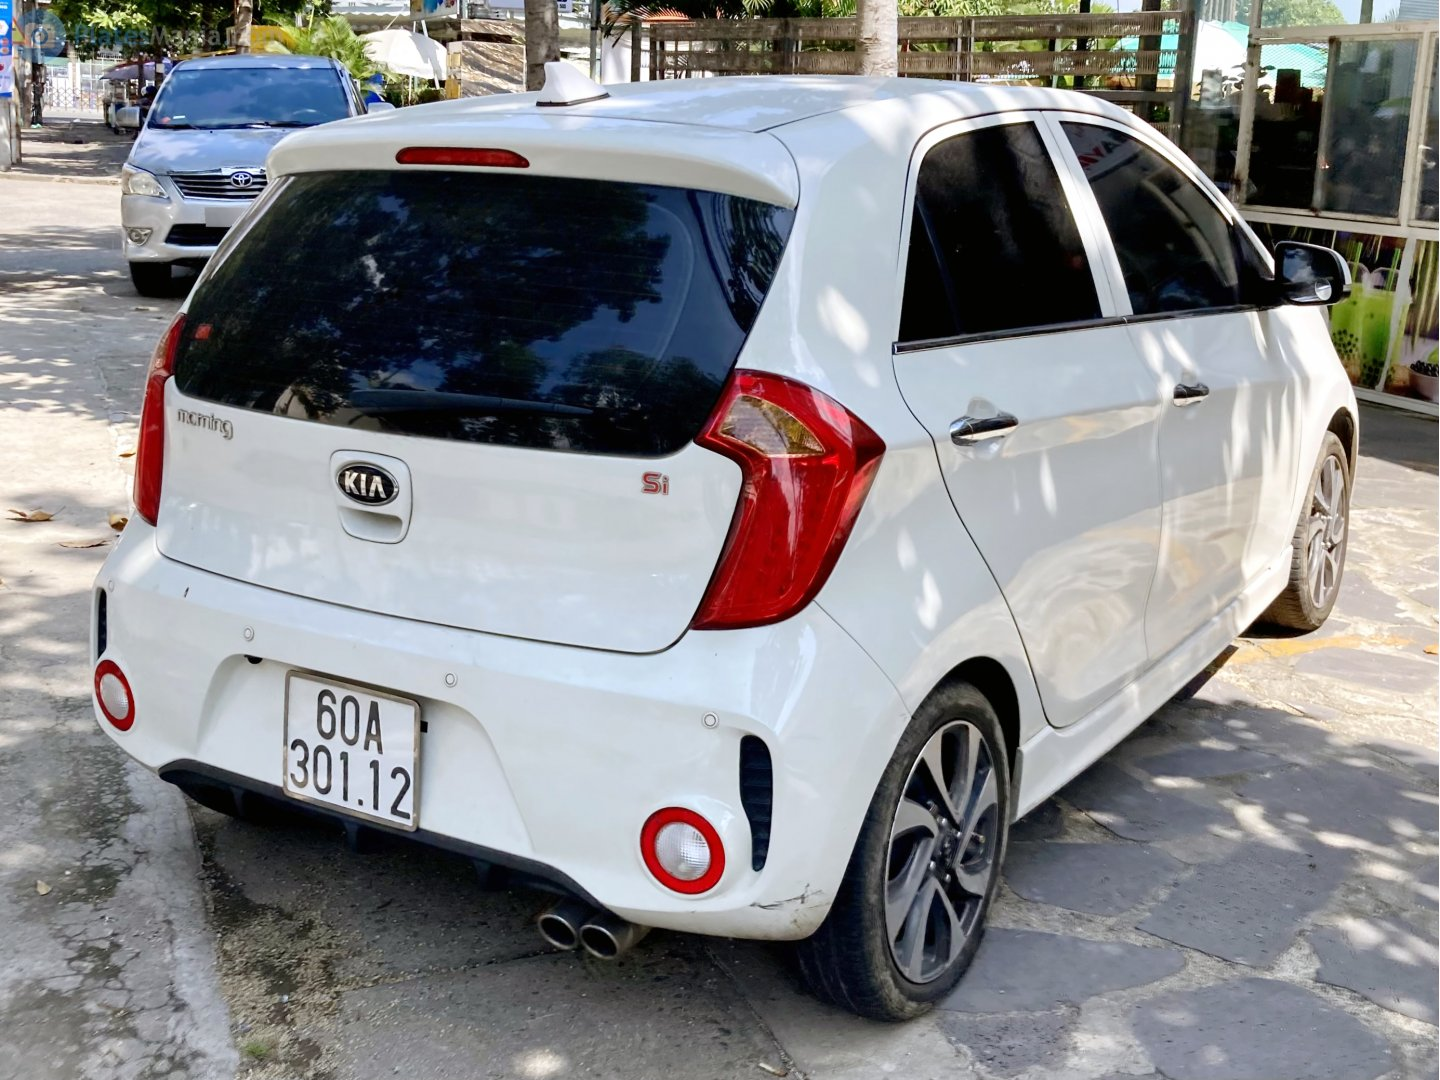bien_so: (285, 671, 419, 831)
